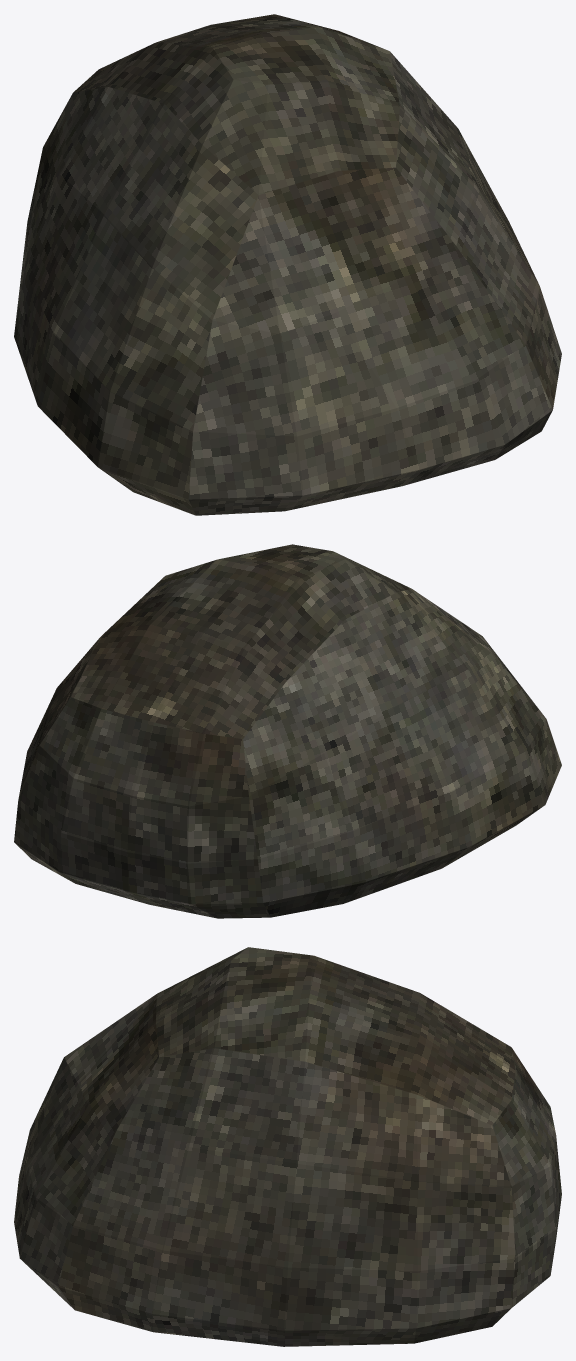
Rendered from stone_5.glb.
The picture shows the model from 3 angles, top to bottom: view 1: azimuth 30°, elevation 25°; view 2: azimuth 150°, elevation 25°; view 3: azimuth 270°, elevation 25°; orthographic projection. The views are drawn at different scales.
Visible parts, largest first — view 1: stone_5; view 2: stone_5; view 3: stone_5.
Part boxes in pixels (box(x1,y1,x2,y2)): stone_5: box(14, 14, 561, 515); stone_5: box(14, 544, 561, 918); stone_5: box(14, 947, 561, 1346).
Bounding box in the file's own units: 0.2665 × 0.1778 × 0.2953.
1 material, 1 textured.
